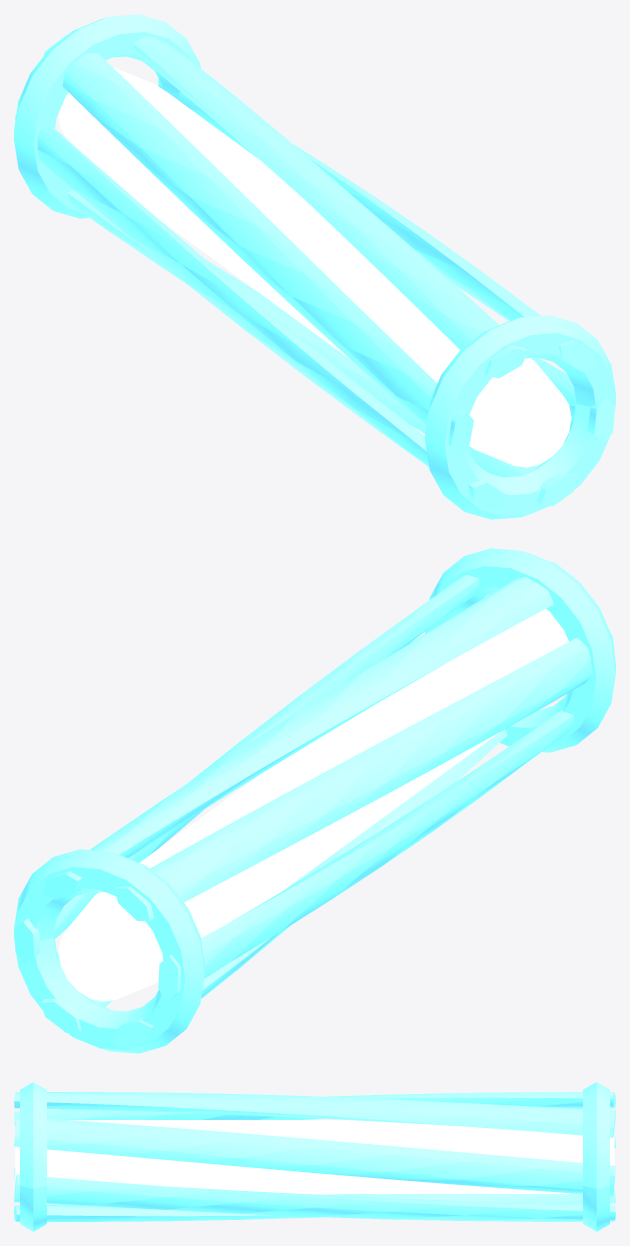
Rendered from fx_beam.glb.
The picture shows the model from 3 angles, top to bottom: view 1: azimuth 30°, elevation 25°; view 2: azimuth 150°, elevation 25°; view 3: azimuth 270°, elevation 25°; orthographic projection. The views are drawn at different scales.
Visible parts, largest first — view 1: beam-segment; view 2: beam-segment; view 3: beam-segment.
Boxes of the visible parts, box(x1,y1,x2,y2) form: beam-segment: box(14, 14, 615, 519); beam-segment: box(14, 548, 615, 1053); beam-segment: box(14, 1082, 615, 1231).
Bounding box in the file's own units: 0.252 × 0.252 × 1.
